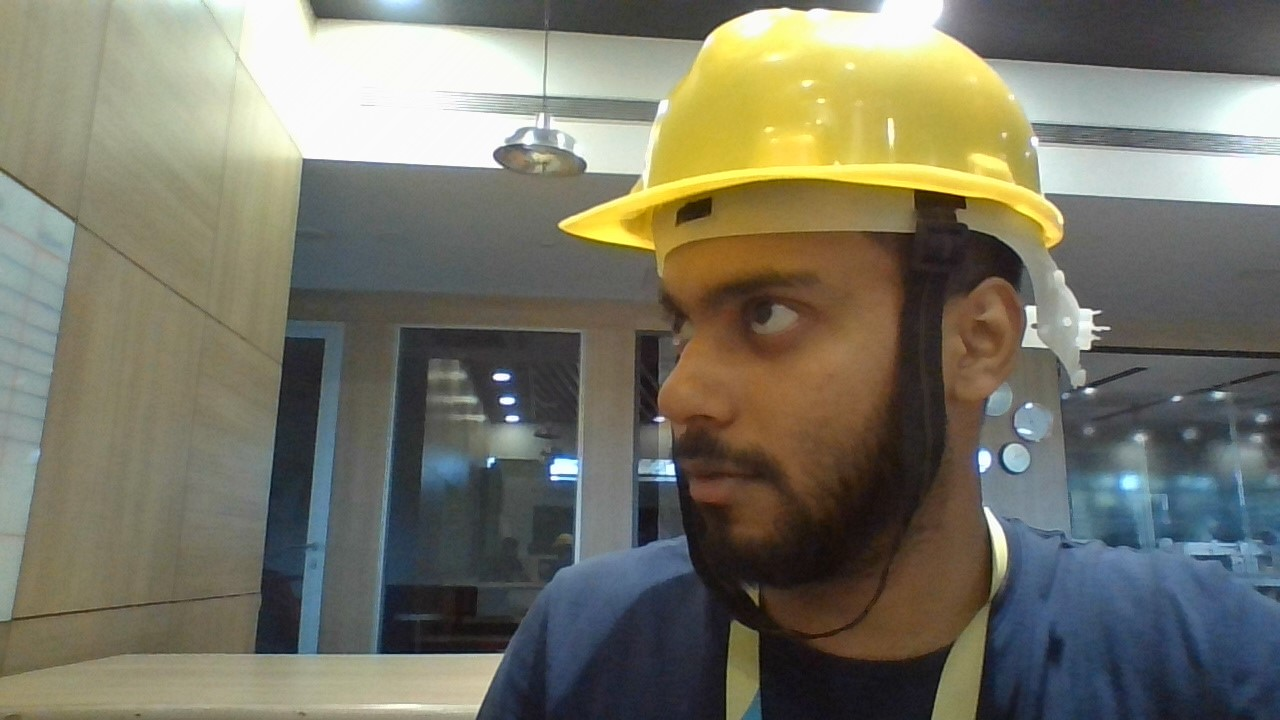Person_wearing_helmet: (572, 7, 1093, 358)
